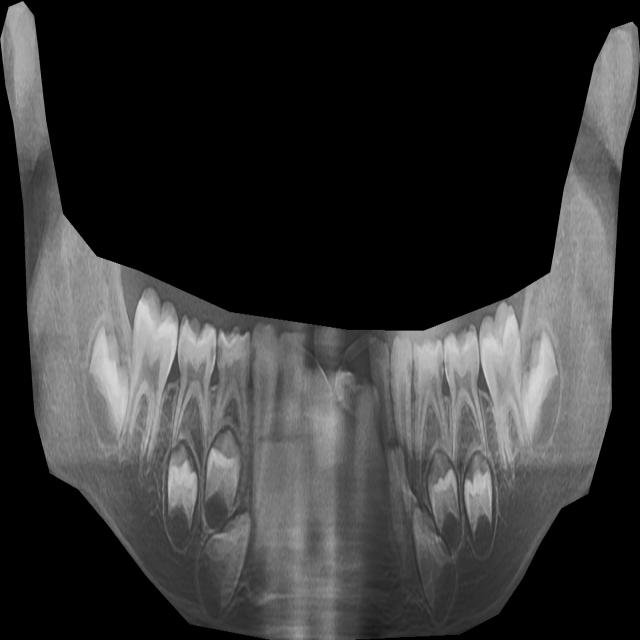mandibula: (0, 1, 640, 640)
